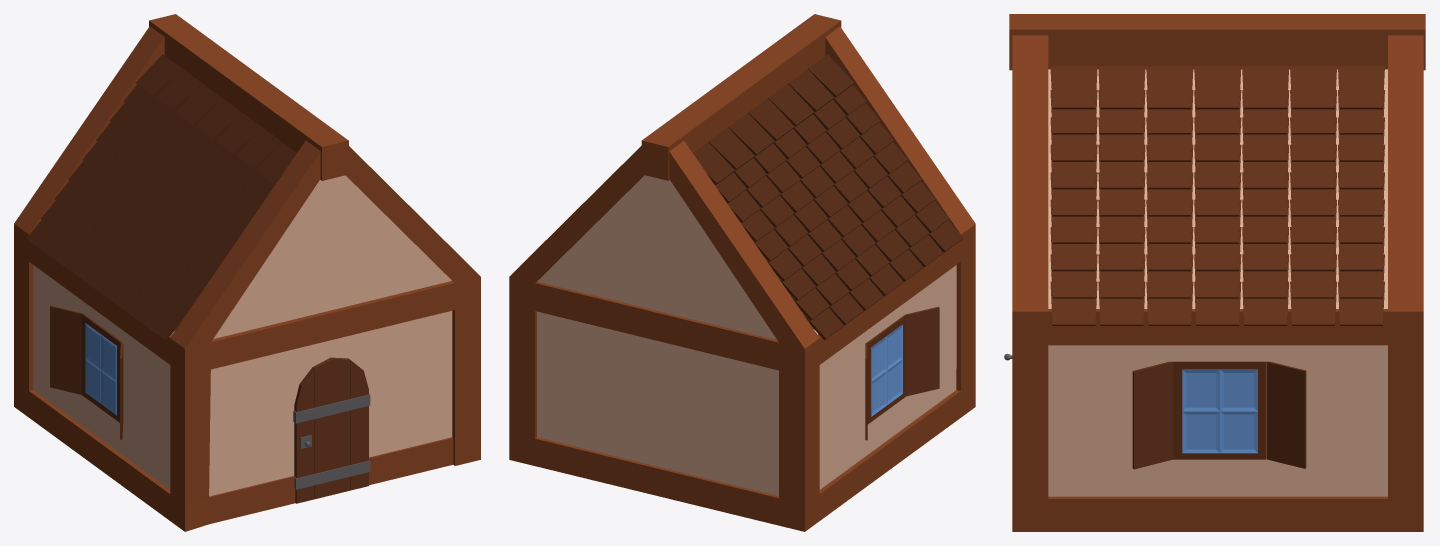
File: house.fbx
3 views of the same model, side by side, from view 1: azimuth 30°, elevation 25°; view 2: azimuth 150°, elevation 25°; view 3: azimuth 270°, elevation 25° (orthographic). The views are drawn at different scales.
Visible parts, largest first — view 1: Cube.001, Cube, Cube.007, Circle.003, Cube.004, Cube.003, Cube.002; view 2: Cube.001, Cube, Cube.007, Cube.004, Cube.003; view 3: Cube.008, Cube.001, Cube, Cube.006, Cube.005.
Part boxes in pixels (x1=…): Cube.001: x1=14, y1=14, x2=480, y2=531; Cube: x1=33, y1=175, x2=452, y2=496; Cube.007: x1=27, y1=54, x2=296, y2=340; Circle.003: x1=294, y1=357, x2=368, y2=503; Cube.004: x1=50, y1=305, x2=123, y2=439; Cube.003: x1=85, y1=323, x2=116, y2=415; Cube.002: x1=293, y1=394, x2=370, y2=489; Cube.001: x1=509, y1=14, x2=975, y2=531; Cube: x1=537, y1=175, x2=956, y2=496; Cube.007: x1=693, y1=54, x2=963, y2=340; Cube.004: x1=865, y1=307, x2=939, y2=440; Cube.003: x1=871, y1=324, x2=902, y2=416; Cube.008: x1=1050, y1=66, x2=1384, y2=325; Cube.001: x1=1009, y1=14, x2=1425, y2=531; Cube: x1=1048, y1=69, x2=1387, y2=496; Cube.006: x1=1132, y1=361, x2=1306, y2=469; Cube.005: x1=1182, y1=369, x2=1257, y2=453.
Size of the model in its own units: 902 by 937 by 844.
